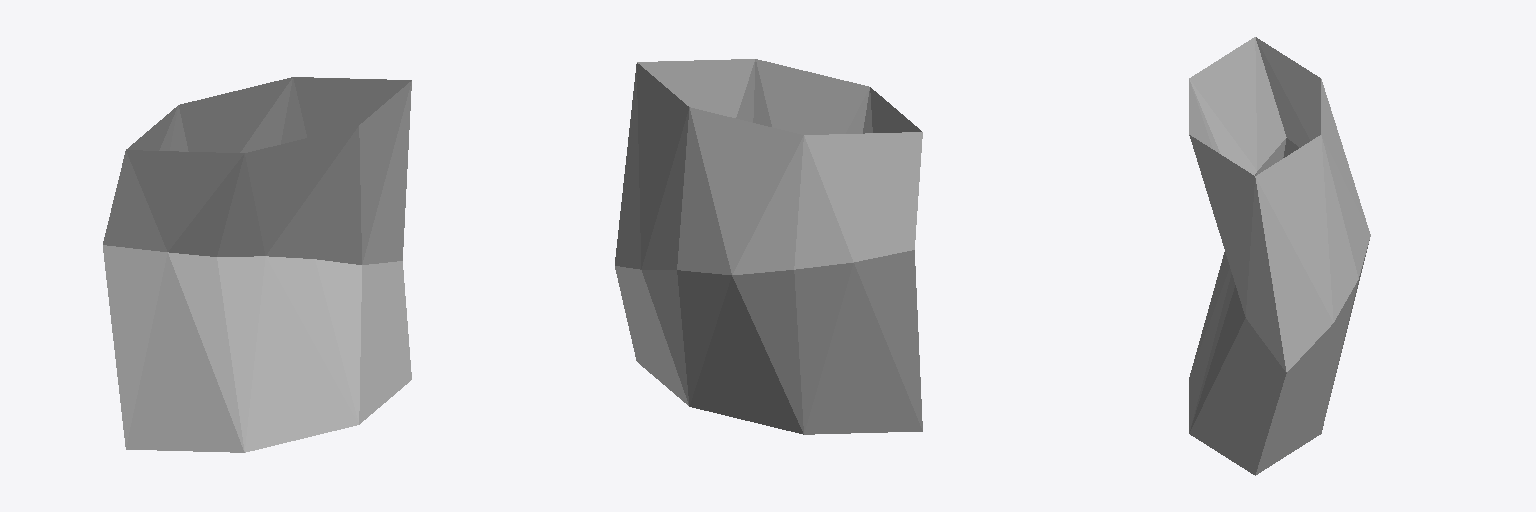
The model's file is iron_arm_mid.obj.
3 renders of one model, left to right at view 1: azimuth 30°, elevation 25°; view 2: azimuth 150°, elevation 25°; view 3: azimuth 270°, elevation 25°, orthographic.
Parts seen in each view (by area): view 1: IronArmMid; view 2: IronArmMid; view 3: IronArmMid.
Part boxes in pixels (x1,y1,x2,y2): IronArmMid: (103,77,411,452); IronArmMid: (615,59,922,434); IronArmMid: (1189,37,1370,475).
Size of the model in its own units: 2.1 by 2 by 1.1.